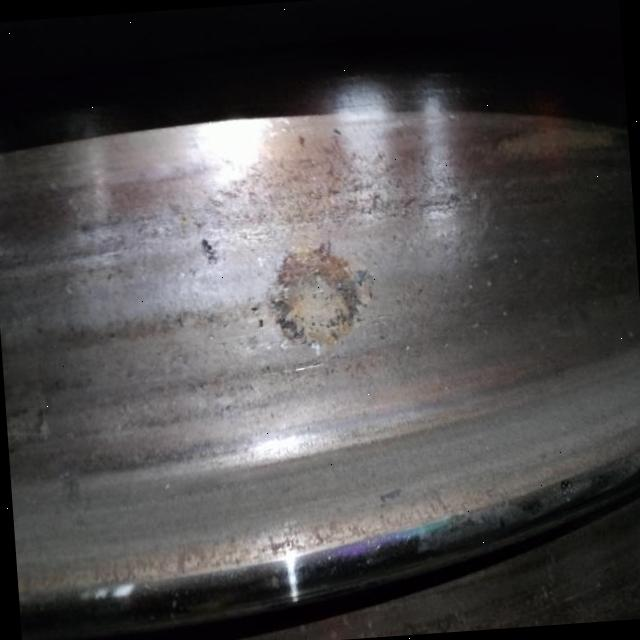Peeling: (238, 221, 415, 393)
